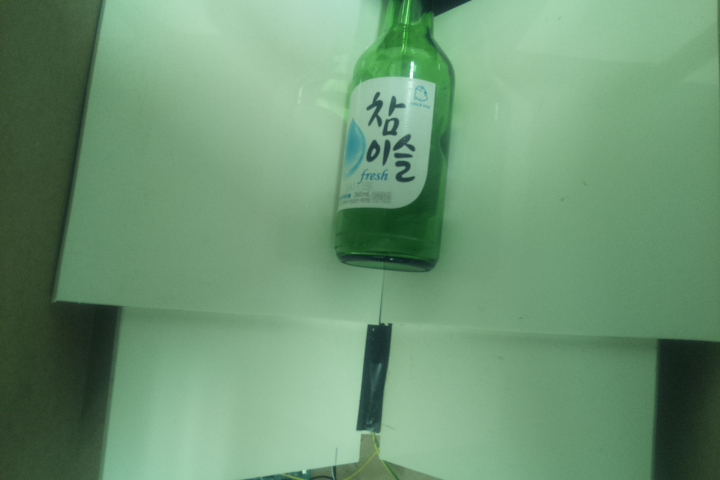soju: (335, 1, 460, 279)
